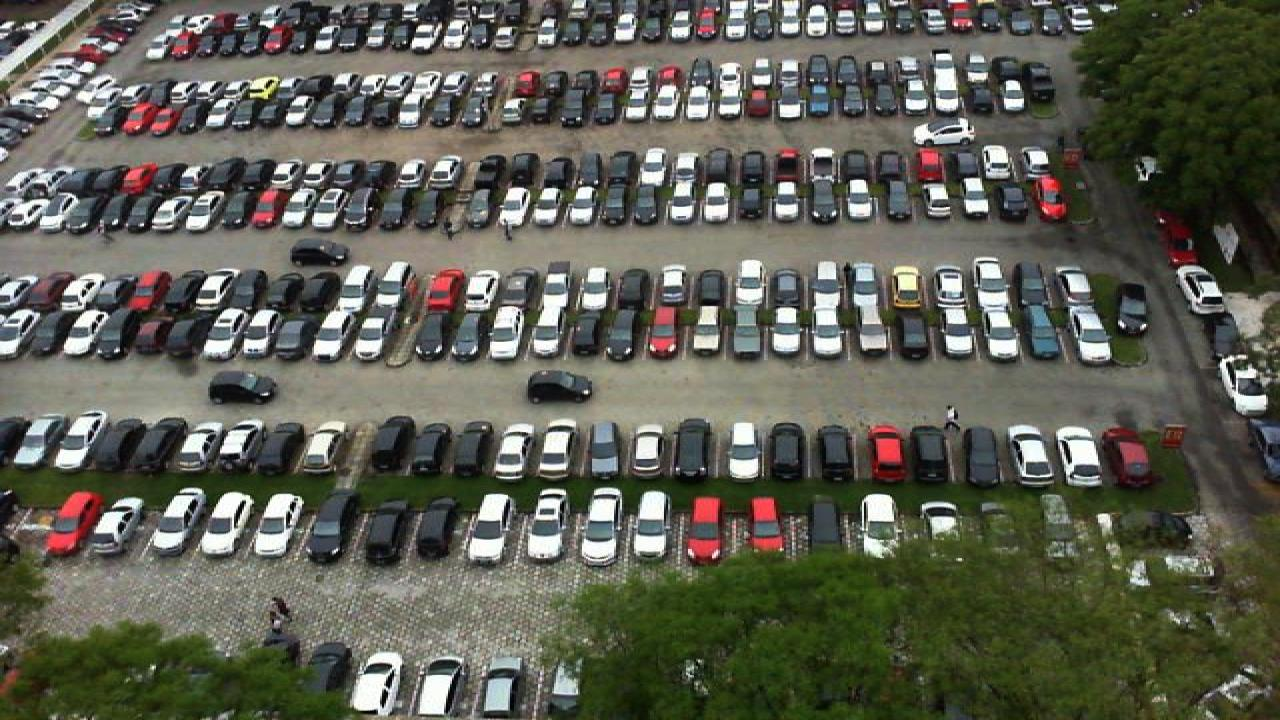Car: (346, 651, 404, 720), (42, 490, 104, 554), (152, 487, 208, 556), (308, 490, 360, 564), (200, 489, 256, 557), (48, 411, 108, 472), (1220, 352, 1274, 419), (248, 492, 304, 556), (1050, 423, 1106, 487), (580, 486, 624, 564), (524, 487, 570, 561), (1104, 426, 1158, 489), (464, 492, 514, 559), (90, 497, 146, 556), (412, 657, 464, 720), (1006, 424, 1058, 487), (362, 496, 410, 564), (476, 655, 526, 720), (180, 420, 242, 472), (414, 495, 462, 561), (632, 487, 674, 561), (298, 421, 352, 475), (222, 420, 278, 472), (1178, 262, 1232, 315), (748, 495, 788, 564), (366, 417, 416, 472), (144, 420, 194, 474), (686, 495, 724, 566), (910, 423, 954, 484), (960, 424, 1002, 486), (1154, 209, 1198, 268), (102, 418, 150, 472), (260, 421, 308, 475), (524, 369, 596, 405), (866, 423, 908, 484), (540, 657, 580, 720), (208, 369, 276, 405), (536, 419, 576, 480), (582, 420, 622, 481), (674, 420, 714, 481), (818, 424, 858, 484), (0, 418, 44, 472), (766, 422, 806, 481), (858, 492, 896, 554), (726, 421, 764, 480), (414, 421, 454, 476), (1110, 281, 1150, 336), (628, 423, 666, 480), (806, 495, 842, 555), (916, 499, 960, 548), (496, 423, 534, 479), (908, 117, 978, 147), (456, 423, 494, 477), (290, 237, 350, 268)
